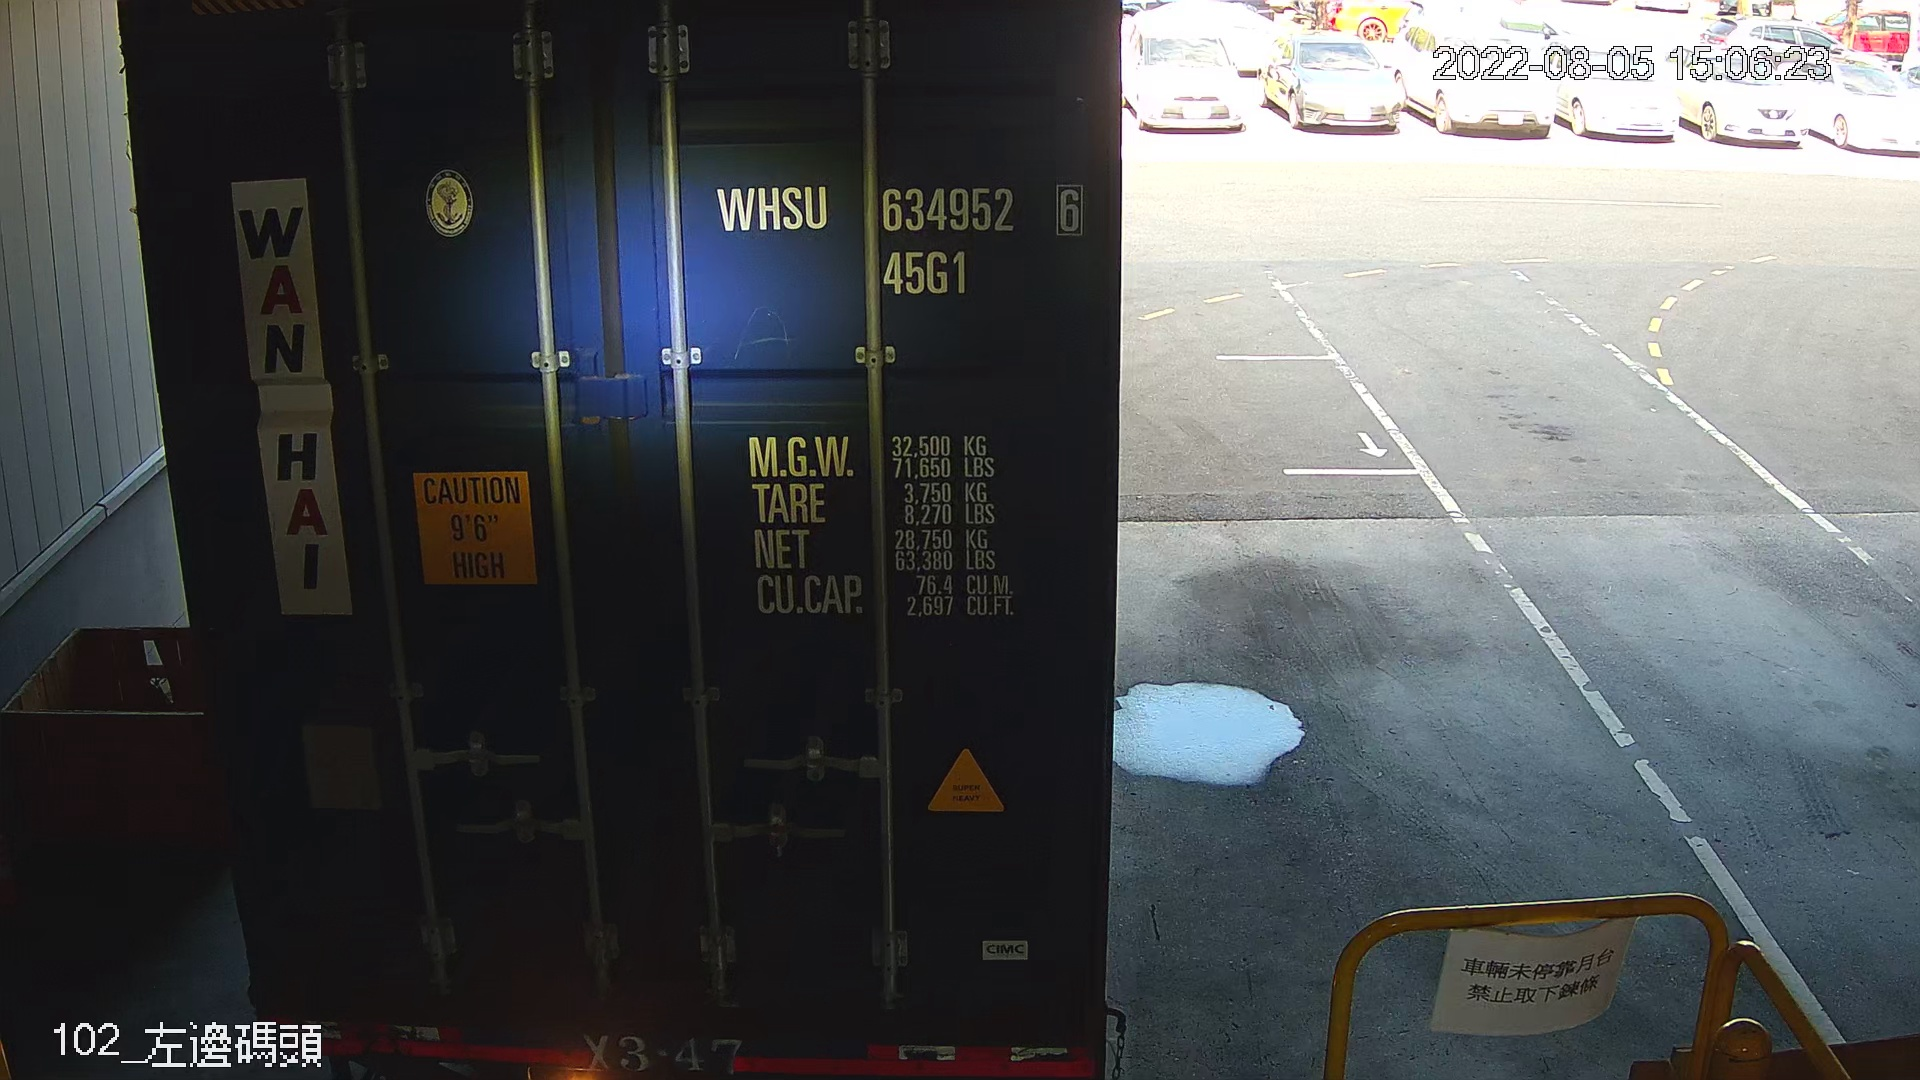container: (704, 161, 1097, 310)
